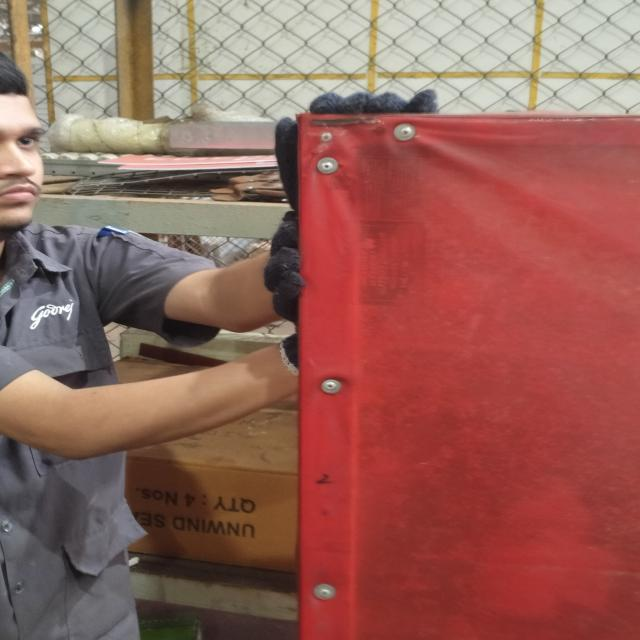Gloves-Detection: (272, 220, 309, 356), (304, 98, 429, 112)
